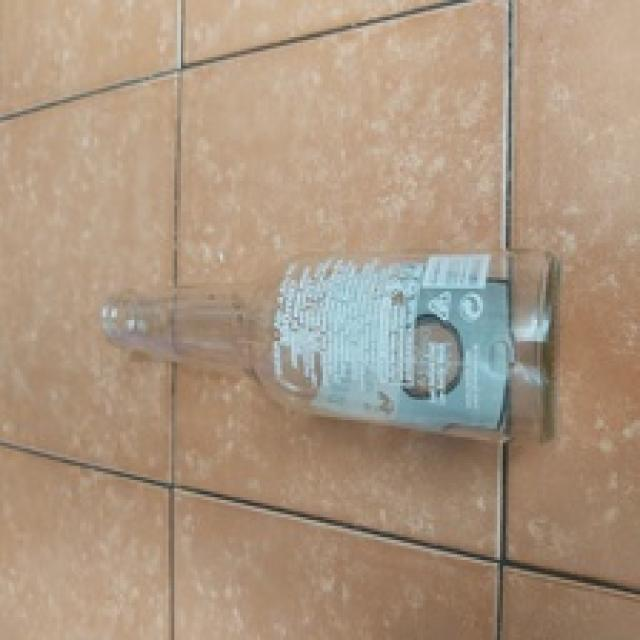Glass: (98, 249, 560, 447)
